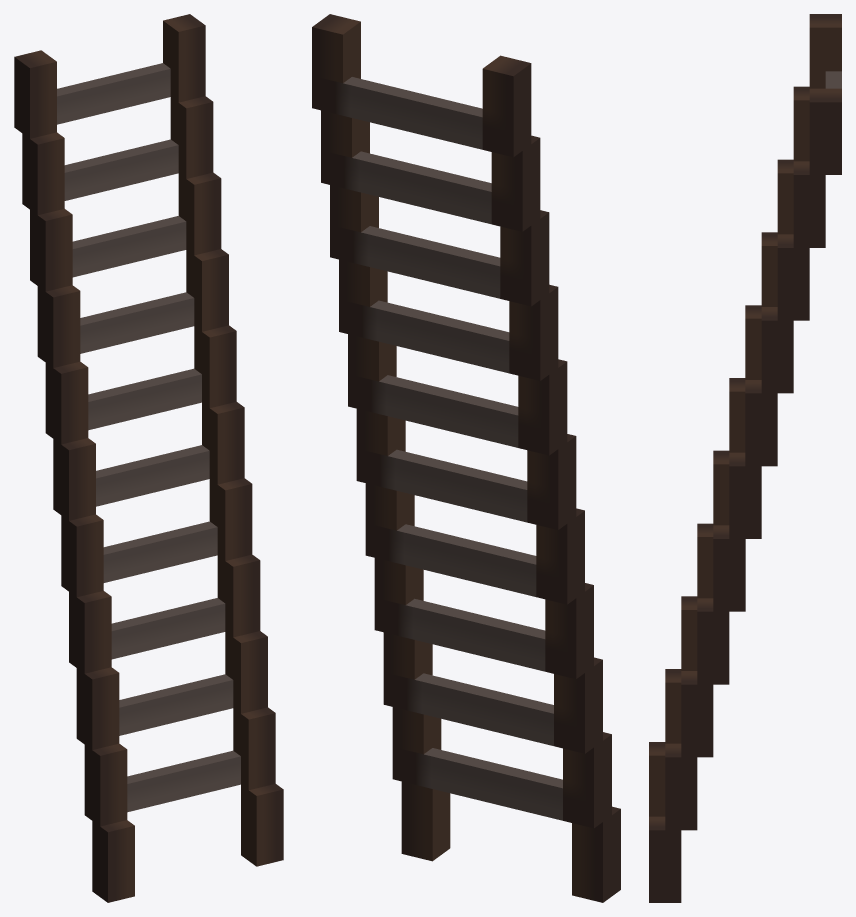
Rendered from Ladder_00.fbx.
3 views of the same model, side by side, from view 1: azimuth 30°, elevation 25°; view 2: azimuth 150°, elevation 25°; view 3: azimuth 270°, elevation 25° (orthographic). The views are drawn at different scales.
Visible parts, largest first — view 1: Ladder_00; view 2: Ladder_00; view 3: Ladder_00.
Boxes of the visible parts, x1=… form: Ladder_00: x1=14, y1=14, x2=283, y2=902; Ladder_00: x1=312, y1=14, x2=620, y2=902; Ladder_00: x1=649, y1=14, x2=841, y2=902.
Bounding box in the file's own units: 65 × 275 × 60.
